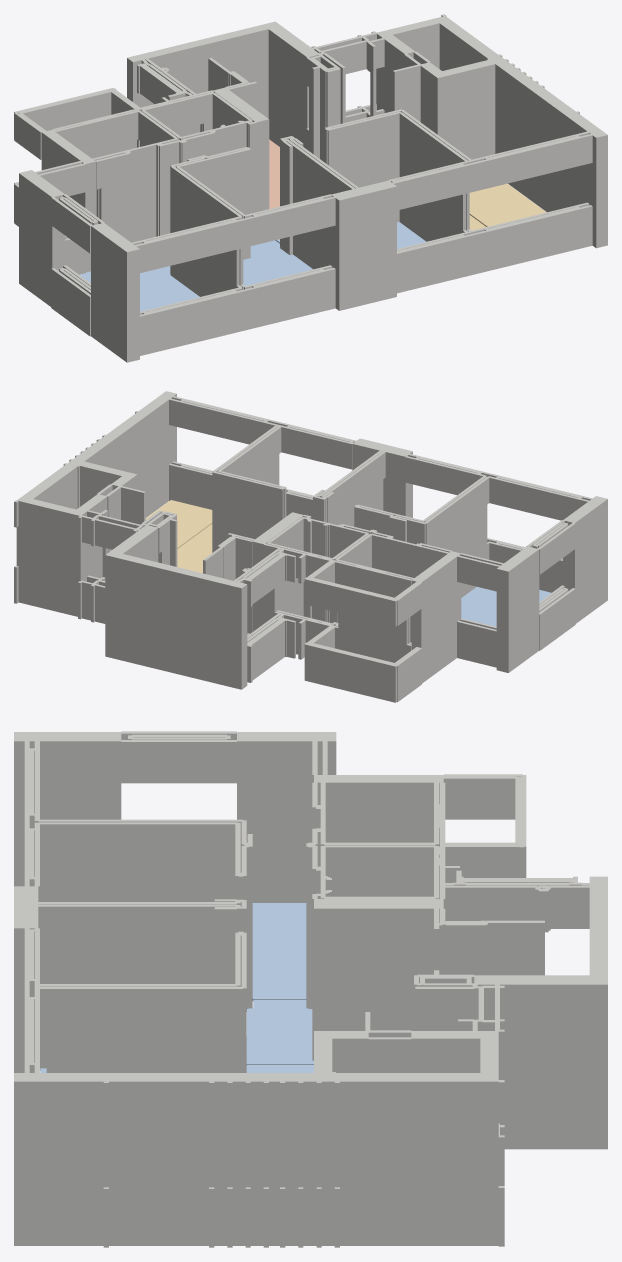
3 views of the same model, one above another, from view 1: azimuth 30°, elevation 25°; view 2: azimuth 150°, elevation 25°; view 3: azimuth 270°, elevation 25° (orthographic). The views are drawn at different scales.
Parts seen in each view (by area): view 1: walls, room:living:8, room:bedroom:5, room:bedroom:4, room:kitchen:9; view 2: walls, room:living:8, room:bedroom:4, room:living:7; view 3: walls, room:bedroom:4, room:bedroom:5.
Part boxes in pixels (<box>): walls: <box>14,14,607,362</box>; room:living:8: <box>469,183,546,226</box>; room:bedroom:5: <box>243,240,312,285</box>; room:bedroom:4: <box>79,266,199,311</box>; room:kitchen:9: <box>269,139,279,208</box>; walls: <box>14,391,607,702</box>; room:living:8: <box>145,500,212,548</box>; room:bedroom:4: <box>461,587,551,626</box>; room:living:7: <box>177,524,212,573</box>; walls: <box>14,731,607,1247</box>; room:bedroom:4: <box>252,903,306,1001</box>; room:bedroom:5: <box>246,1000,313,1065</box>.
Size of the model in its own units: 12.83 by 2.8 by 9.16.
